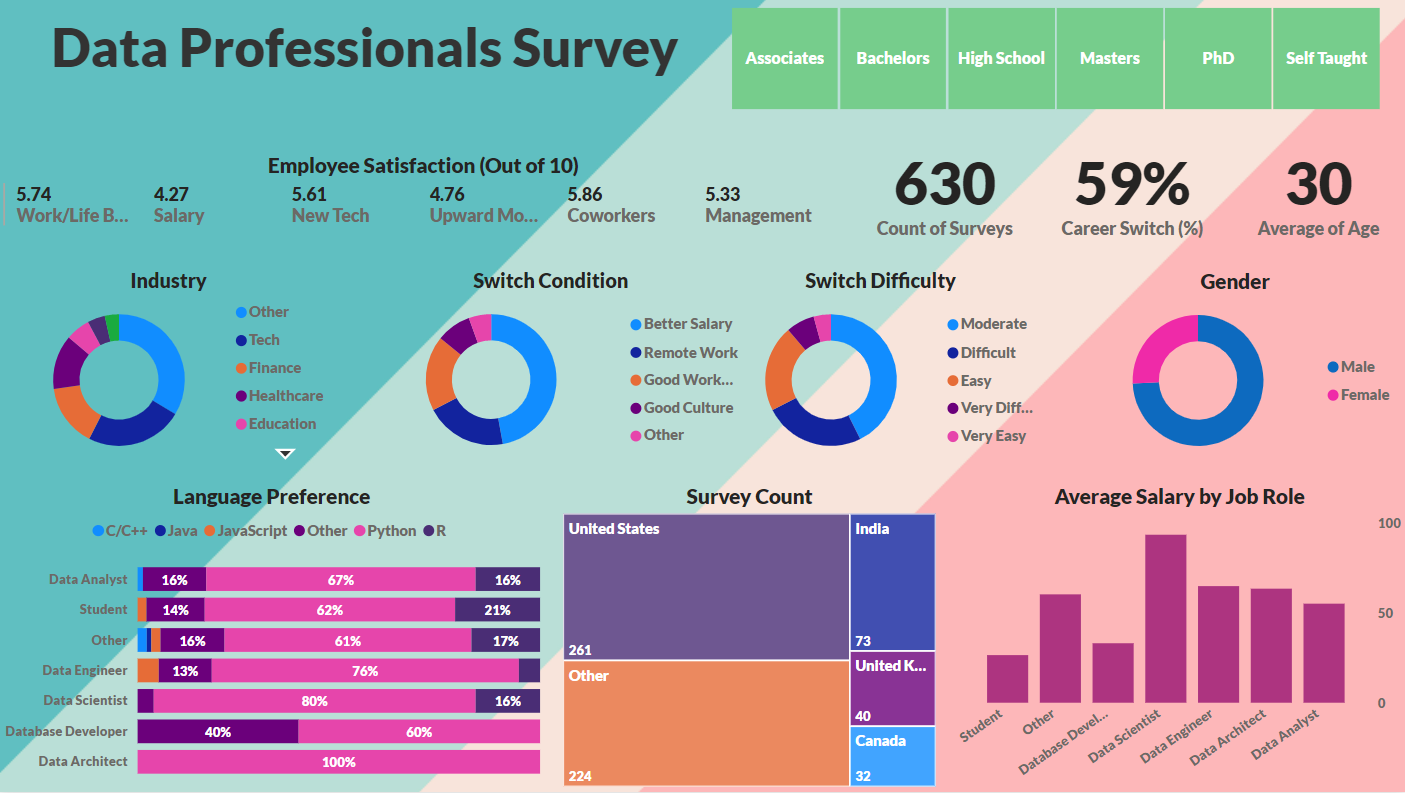

This screenshot's page, from the dashboard's own definition file:
{"tool":"powerbi","page":{"name":"Page 1","canvas":[1280,720],"ordinal":0},"visuals":[{"type":"card","fields":{"Values":["Avg(Data Professional Survey.Q10 - Current Age)"]},"box":[1120,114.9,160,117.4],"z":0},{"type":"hundredPercentStackedBarChart","title":"Language Preference","fields":{"Y":["CountNonNull(Data Professional Survey.Programming Language)"],"Category":["Data Professional Survey.Job Role"],"Series":["Data Professional Survey.Programming Language"]},"box":[0,440.1,497.5,279.9],"z":1000},{"type":"columnChart","title":"Average Salary by Job Role","fields":{"Category":["Data Professional Survey.Job Role"],"Y":["Avg(Data Professional Survey.Average Salary)"]},"box":[867.9,440.1,412,279.9],"z":2000},{"type":"treemap","title":"Survey Count","fields":{"Values":["CountNonNull(Data Professional Survey.Unique ID)"],"Details":["Data Professional Survey.Country"]},"box":[508.5,440.1,348.4,279.9],"z":3000},{"type":"multiRowCard","title":"Employee Satisfaction (Out of 10)","fields":{"Values":["Avg(Data Professional Survey.Satisfaction(Work/Life Balance))","Avg(Data Professional Survey.Satisfaction(Salary))","Avg(Data Professional Survey.Satisfaction(Learning New Things))","Avg(Data Professional Survey.Satisfaction(Upward Mobility))","Avg(Data Professional Survey.Satisfaction(Coworkers))","Avg(Data Professional Survey.Satisfaction(Management))"]},"box":[0,126.7,773.3,117.4],"z":4000},{"type":"donutChart","title":"Gender","fields":{"Category":["Data Professional Survey.Gender"],"Y":["CountNonNull(Data Professional Survey.Gender)"]},"box":[969.4,244.5,310.5,180.9],"z":5000},{"type":"slicer","fields":{"Values":["Data Professional Survey.Education"]},"box":[640.5,0,639.3,106.3],"z":6000},{"type":"textbox","box":[8.1,9.3,651.2,105.8],"z":7000},{"type":"card","fields":{"Values":["Data Professional Survey.Career Switch (%)"]},"box":[951,114.9,160.1,117.4],"z":8000},{"type":"card","fields":{"Values":["CountNonNull(Data Professional Survey.Unique ID)"]},"box":[781.1,114.9,160.1,117.4],"z":9000},{"type":"donutChart","title":"Switch Difficulty","fields":{"Category":["Data Professional Survey.Q7 - How difficult was it for you to break into Data?"],"Y":["CountNonNull(Data Professional Survey.Q7 - How difficult was it for you to break into Data?)"]},"box":[647.9,244.5,309.3,180.9],"z":10000},{"type":"donutChart","title":"Industry","fields":{"Category":["Data Professional Survey.Industry"],"Series":["Data Professional Survey.Industry"],"Y":["CountNonNull(Data Professional Survey.Unique ID)"]},"box":[0,244.5,310,180.9],"z":11000},{"type":"donutChart","title":"Switch Condition","fields":{"Category":["Data Professional Survey.Q8 - If you were to look for a new job today, what would be the most important thing to you?"],"Y":["CountNonNull(Data Professional Survey.Unique ID)"]},"box":[322.7,244.8,359.4,180.3],"z":12000}]}

Visuals, with their boxes in screenshot pixels (x1, y1, x2, y2), scaled from the page's 1280x720 canvas onto the 1405x793 screenshot:
card - Avg(Data Professional Survey.Q10 - Current Age): BBox(1229, 127, 1404, 256)
"Language Preference" hundredPercentStackedBarChart: BBox(0, 485, 546, 792)
"Average Salary by Job Role" columnChart: BBox(953, 485, 1404, 792)
"Survey Count" treemap: BBox(558, 485, 941, 792)
"Employee Satisfaction (Out of 10)" multiRowCard: BBox(0, 140, 849, 269)
"Gender" donutChart: BBox(1064, 269, 1404, 469)
slicer - Data Professional Survey.Education: BBox(703, 0, 1404, 117)
textbox: BBox(9, 10, 724, 127)
card - Data Professional Survey.Career Switch (%): BBox(1044, 127, 1220, 256)
card - CountNonNull(Data Professional Survey.Unique ID): BBox(857, 127, 1033, 256)
"Switch Difficulty" donutChart: BBox(711, 269, 1051, 469)
"Industry" donutChart: BBox(0, 269, 340, 469)
"Switch Condition" donutChart: BBox(354, 270, 749, 468)
